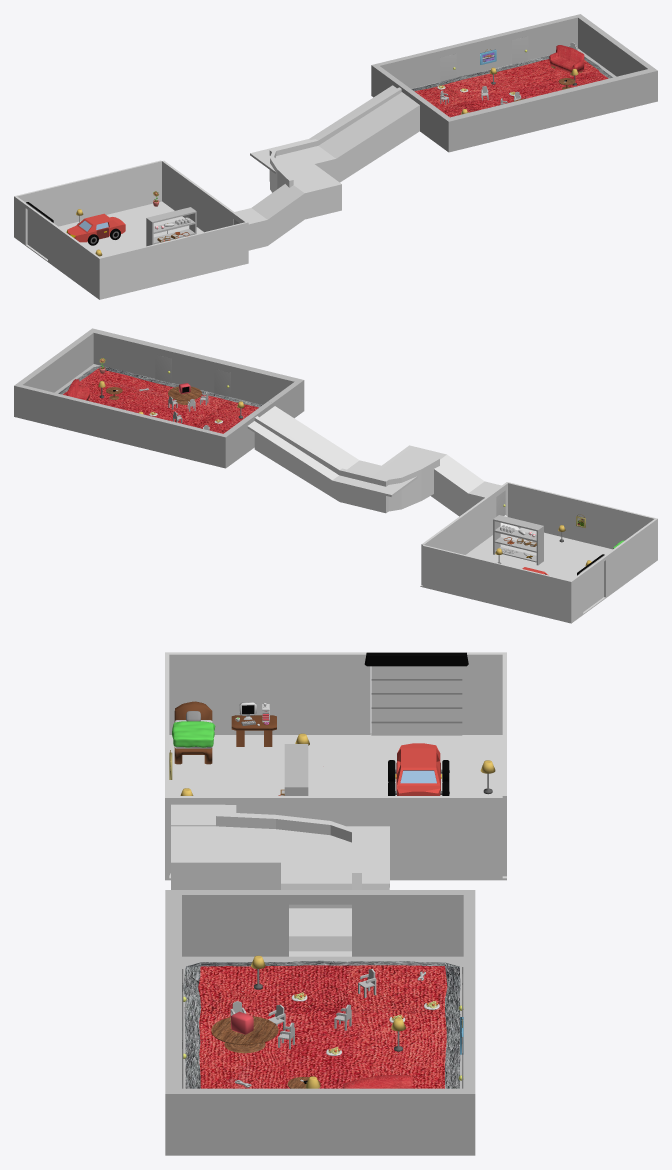
The model's file is map1s1fbx.fbx.
3 views of the same model, one above another, from view 1: azimuth 30°, elevation 25°; view 2: azimuth 150°, elevation 25°; view 3: azimuth 270°, elevation 25° (orthographic). The views are drawn at different scales.
Visible parts, largest first — view 1: MapMainModel, MapMainModel.001, MapMainModel.002, carpet, Shelf, Cube.005, GarageDoor, Couch, Door.002, Door.001; view 2: MapMainModel, MapMainModel.001, MapMainModel.002, carpet, Shelf, GarageDoor, tablekey, Door.003; view 3: MapMainModel, MapMainModel.001, carpet, MapMainModel.002, GarageDoor, Cube.005, tablekey, Shelf, Blanket, BedFrame, Table, Couch.
Part boxes in pixels (box(x1,y1,x2,y2)): MapMainModel: box(14, 160, 248, 299); MapMainModel.001: box(371, 14, 657, 152); MapMainModel.002: box(235, 85, 419, 263); carpet: box(411, 55, 612, 117); Shelf: box(146, 207, 196, 246); Cube.005: box(66, 213, 125, 242); GarageDoor: box(26, 202, 53, 258); Couch: box(549, 45, 584, 75); Door.002: box(511, 36, 528, 64); Door.001: box(440, 53, 456, 81); MapMainModel: box(420, 482, 657, 623); MapMainModel.001: box(14, 328, 304, 468); MapMainModel.002: box(247, 406, 501, 516); carpet: box(58, 366, 262, 433); Shelf: box(493, 515, 543, 565); GarageDoor: box(577, 554, 604, 611); tablekey: box(106, 386, 201, 404); Door.003: box(155, 354, 171, 383); MapMainModel: box(165, 652, 506, 956); MapMainModel.001: box(165, 890, 475, 1155); carpet: box(183, 960, 460, 1088); MapMainModel.002: box(165, 804, 389, 951); GarageDoor: box(364, 652, 468, 735); Cube.005: box(395, 743, 441, 795); tablekey: box(211, 1016, 320, 1088); Shelf: box(284, 744, 308, 795); Blanket: box(172, 721, 215, 747); BedFrame: box(174, 701, 212, 764); Table: box(231, 715, 276, 746); Couch: box(341, 1075, 412, 1088).
Size of the model in its own units: 22828 by 3627 by 6053.
